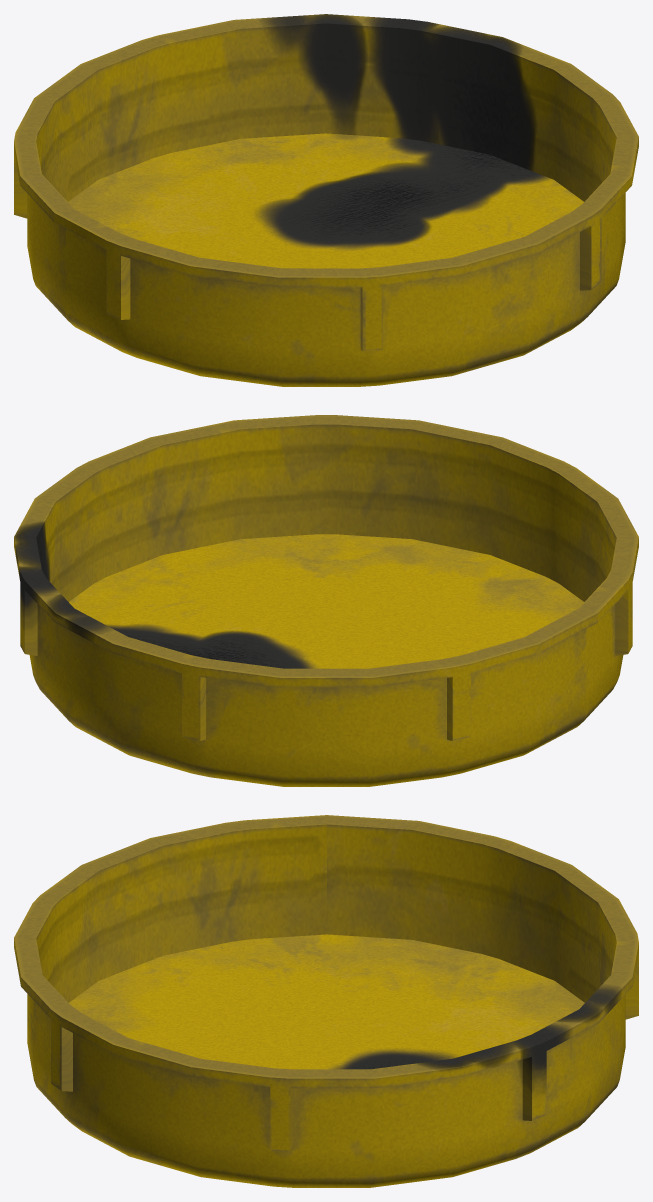
The model's file is Liquid08_3.FBX.
The picture shows the model from 3 angles, top to bottom: view 1: azimuth 30°, elevation 25°; view 2: azimuth 150°, elevation 25°; view 3: azimuth 270°, elevation 25°; orthographic projection.
Visible parts, largest first — view 1: Liquid083_LOD0; view 2: Liquid083_LOD0; view 3: Liquid083_LOD0.
Part boxes in pixels (x1,y1,x2,y2): Liquid083_LOD0: [14, 14, 638, 386]; Liquid083_LOD0: [14, 415, 638, 786]; Liquid083_LOD0: [14, 815, 638, 1187].
Size of what is drawn, in the model's own units: 7.51 by 1.58 by 7.52.
